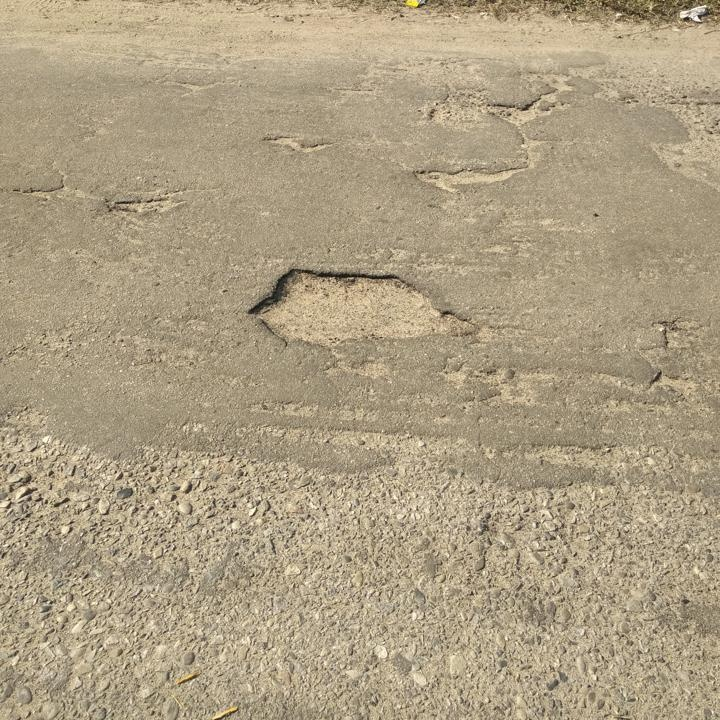pothole: (242, 262, 475, 348), (482, 85, 569, 126), (407, 164, 532, 183)
